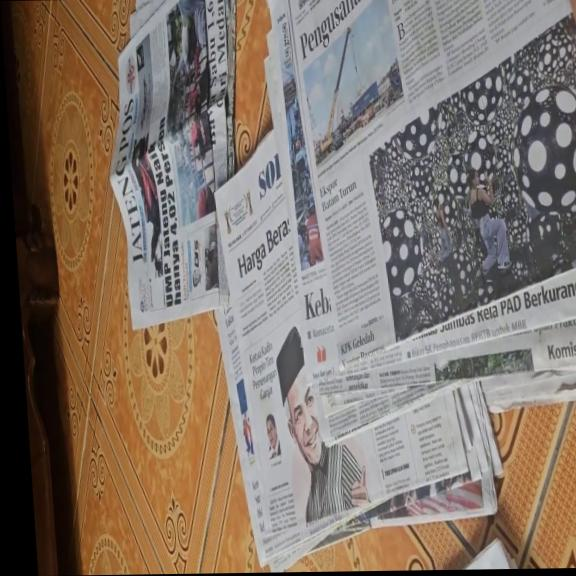Kertas: (291, 0, 576, 438), (99, 0, 261, 327), (236, 319, 488, 503)
